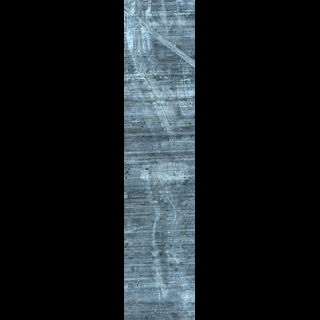d: (153, 161, 186, 304), (127, 2, 195, 71), (146, 73, 195, 146), (136, 157, 188, 191)
